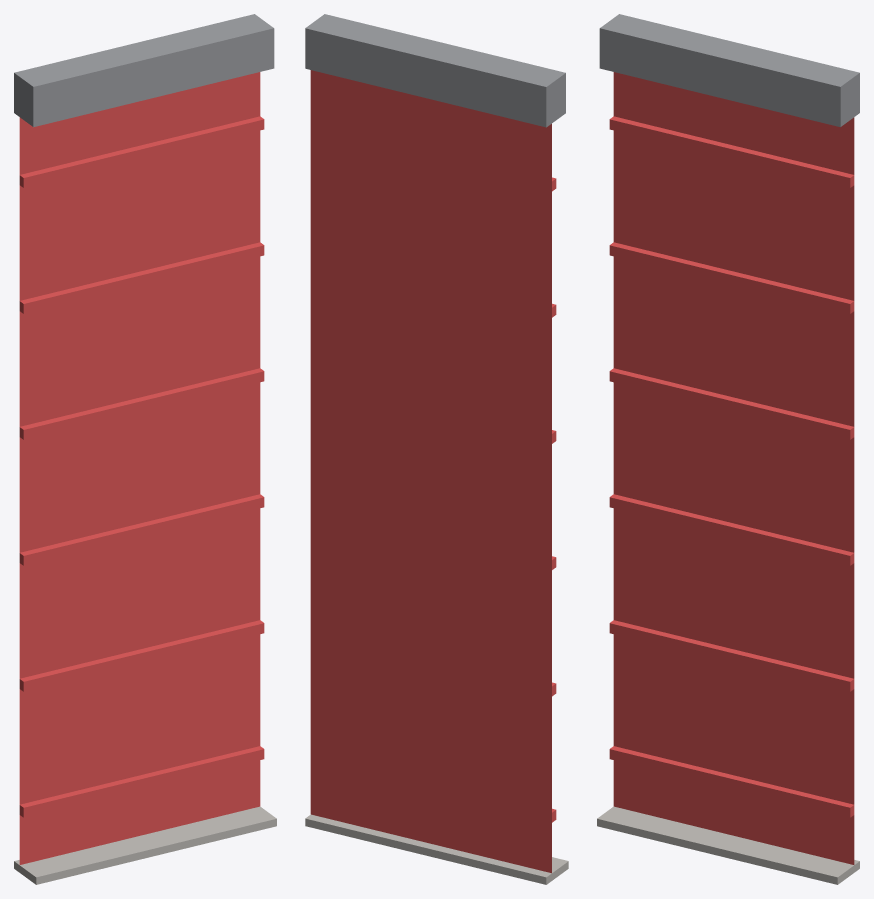
File: porte_sectionnelle.glb
The picture shows the model from 3 angles, left to right: view 1: azimuth 30°, elevation 25°; view 2: azimuth 150°, elevation 25°; view 3: azimuth 330°, elevation 25°; orthographic projection.
Parts seen in each view (by area): view 1: porte_sectionnelle; view 2: porte_sectionnelle; view 3: porte_sectionnelle.
Part boxes in pixels (x1,y1,x2,y2): porte_sectionnelle: (14, 14, 276, 884); porte_sectionnelle: (305, 14, 568, 884); porte_sectionnelle: (597, 14, 859, 884).
Size of the model in its own units: 1 by 3.16 by 0.16.
